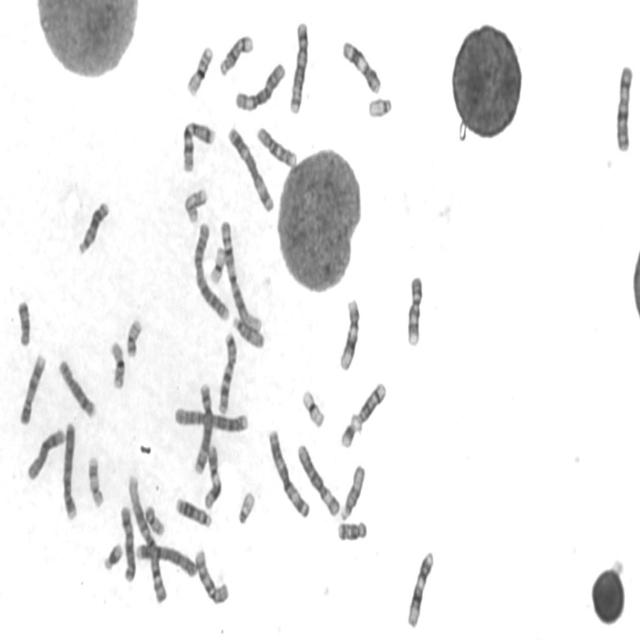A1: (124, 469, 168, 605), (218, 216, 263, 333)
A2: (191, 216, 231, 322), (172, 402, 250, 434)
A3: (225, 122, 276, 214), (266, 425, 311, 520)
B4: (133, 538, 198, 579), (60, 416, 79, 522)
B5: (286, 16, 310, 115), (192, 379, 214, 476)
C10: (192, 544, 231, 606), (254, 122, 298, 169)
C11: (339, 34, 383, 96), (202, 440, 223, 511)
C12: (405, 547, 436, 629), (337, 294, 361, 372)
C6: (294, 439, 342, 518), (232, 56, 287, 112)
C7: (179, 115, 218, 175), (216, 328, 239, 416)
C8: (56, 355, 98, 420), (24, 423, 66, 483)
C9: (17, 348, 47, 426), (404, 271, 424, 347)
D13: (76, 196, 111, 256), (173, 493, 214, 529)
D14: (354, 377, 388, 431), (217, 30, 255, 78)
D15: (338, 460, 367, 522), (231, 310, 266, 350)
E16: (184, 41, 215, 97), (107, 336, 127, 390)
E17: (86, 451, 106, 510), (181, 183, 209, 225)
E18: (335, 516, 369, 544), (15, 295, 32, 348)
F19: (299, 384, 327, 430), (206, 242, 226, 286)
F20: (123, 313, 144, 359), (142, 500, 166, 537)
G21: (338, 409, 362, 449), (101, 538, 124, 572)
G22: (235, 486, 257, 526), (366, 92, 394, 120)
X: (613, 60, 635, 153), (118, 501, 137, 584)
